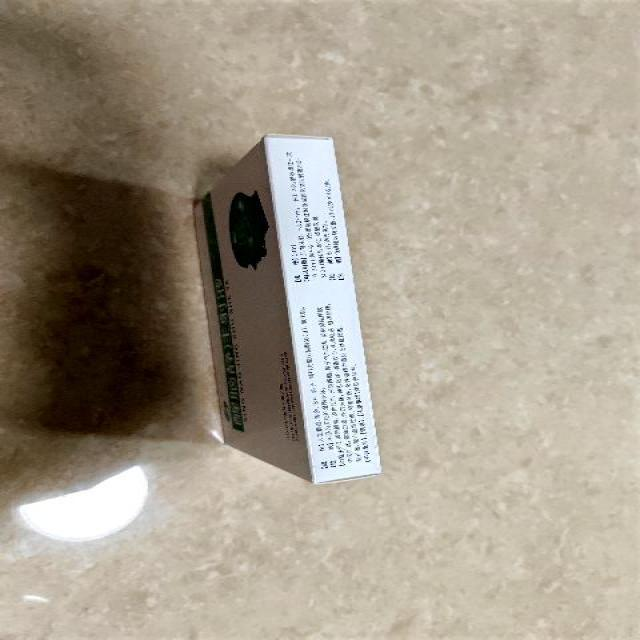box: (194, 133, 382, 484)
